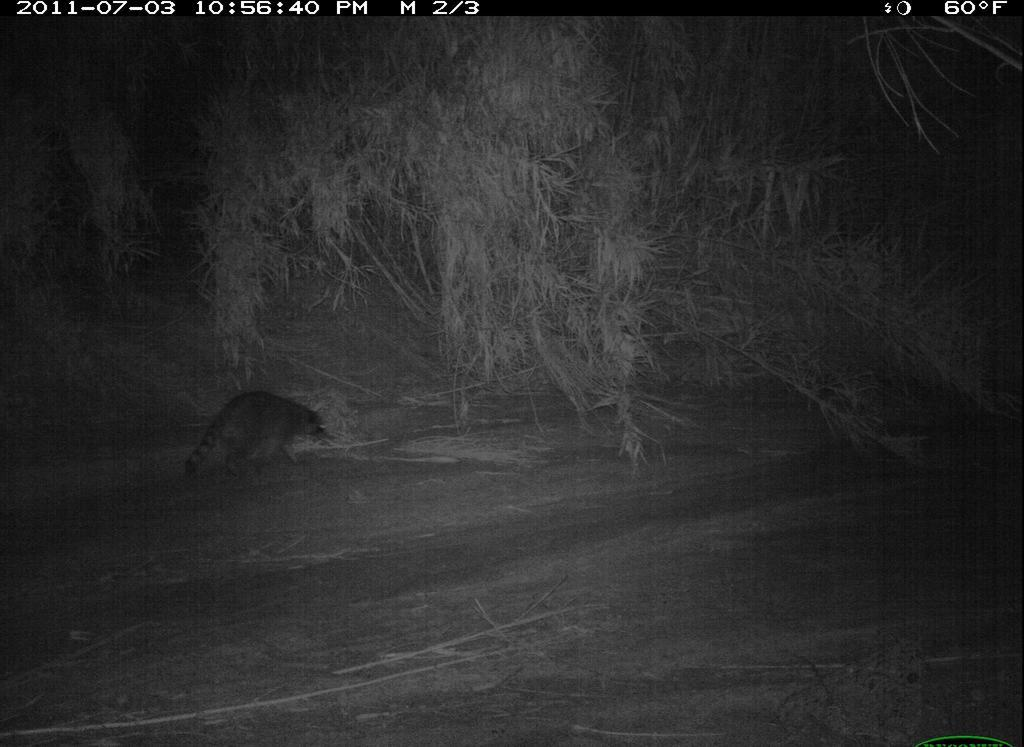raccoon: (181, 382, 336, 492)
